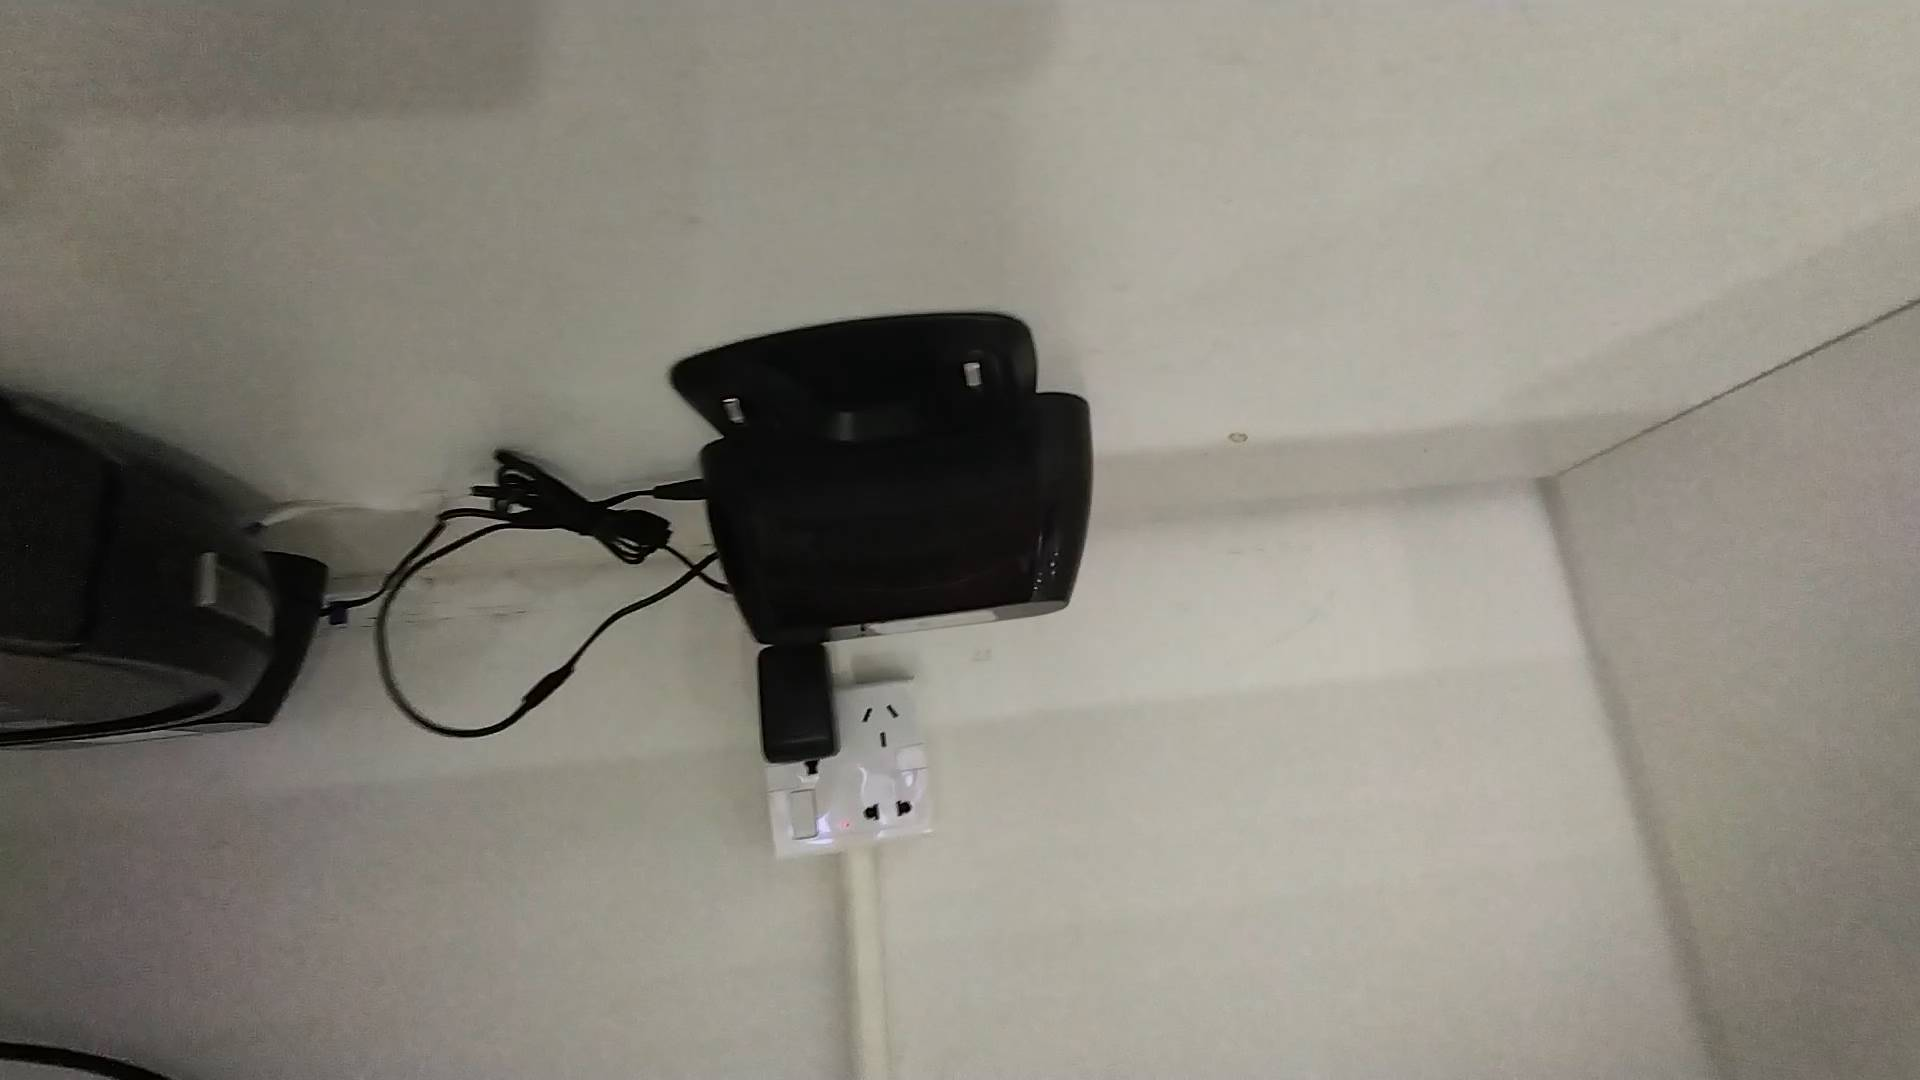recharge seat: (671, 313, 1093, 642)
